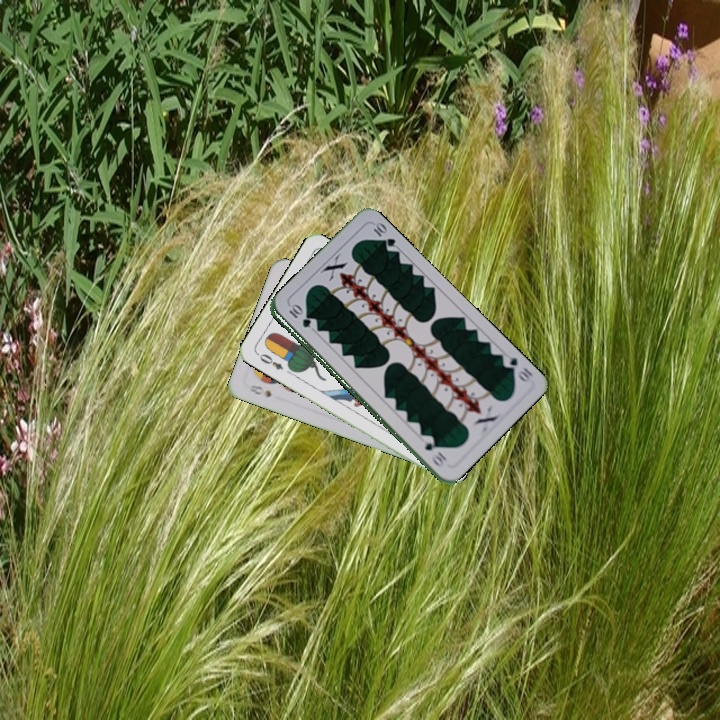EO: (253, 349, 286, 372)
G10: (498, 350, 535, 384), (285, 302, 313, 330)
S8: (244, 381, 274, 400)
